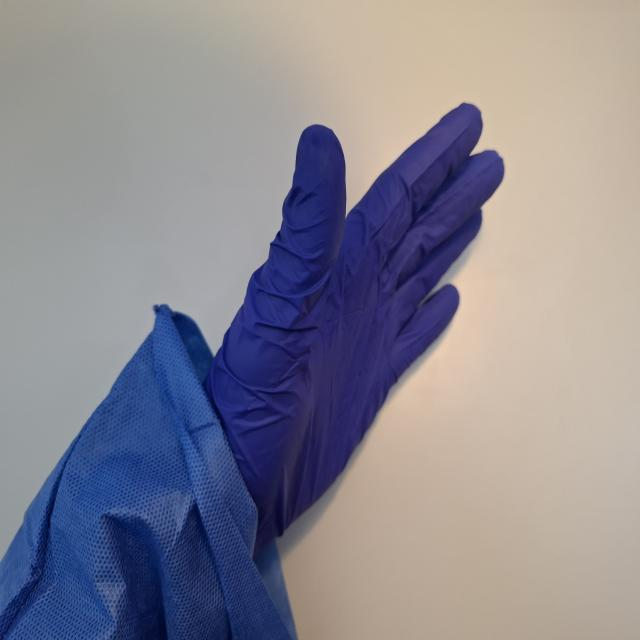glove_on: (172, 99, 508, 566)
